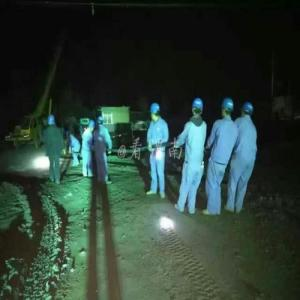blue: (191, 97, 205, 118), (222, 96, 234, 119), (241, 100, 255, 119), (149, 103, 161, 121), (47, 115, 57, 129), (89, 120, 97, 133), (97, 116, 105, 128)
